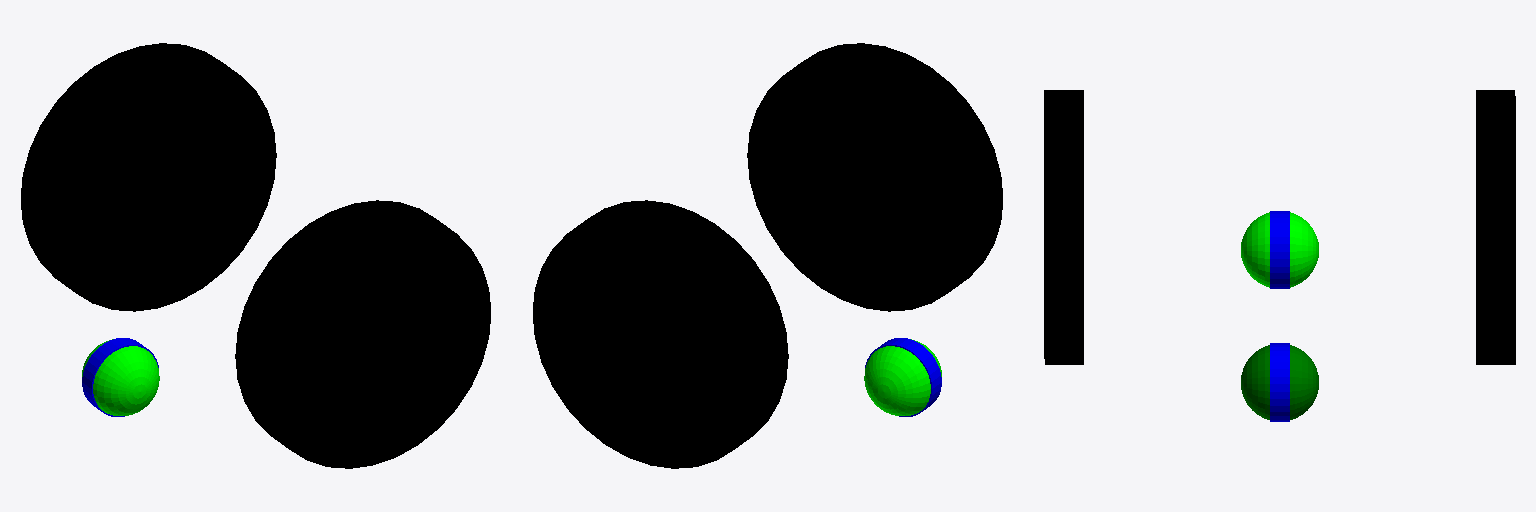
URDF robot description (box_bot):
<?xml version="1.0"?>
<robot name="box_bot">

    <material name="red">
        <color rgba="1.0 0.0 0.0 1"/>
    </material>

    <material name="green_light">
        <color rgba="0.0 1.0 0.0 1"/>
    </material>

    <material name="green_dark">
        <color rgba="0.0 0.5 0.0 1"/>
    </material>

    <material name="blue">
        <color rgba="0.0 0.0 1.0 1"/>
    </material>

    <material name="yellow">
        <color rgba="1.0 1.0 0.0 1"/>
    </material>

    <material name="black">
        <color rgba="0.0 0.0 0.0 1"/>
    </material>

    <material name="white">
        <color rgba="1.0 1.0 1.0 1"/>
    </material>

    <material name="box_bot_blue">
        <color rgba="0.088656 0.428691 0.491021 1"/>
    </material>

    <link name="base_footprint"/>

    <!-- Body -->
    <link name="base_link">
        <visual>
            <geometry>
                <mesh filename="package://my_box_bot_description/meshes/cute_cube.dae"
                    scale="0.1 0.1 0.1"/>
            </geometry>
            <!-- <material name="box_bot_blue"/> -->
        </visual>
        <collision>
            <geometry>
                <box size="0.1 0.1 0.1"/>
            </geometry>
        </collision>

        <inertial>
            <mass value="0.5"/>
            <origin rpy="0 0 0" xyz="0 0 0"/>
            <inertia ixx="0.0008333333333333335" ixy="0" ixz="0"
                    iyy="0.0008333333333333335" iyz="0"
                    izz="0.0008333333333333335"/>
        </inertial>
    </link>
    <joint name="base_link_joint" type="fixed">
        <origin xyz="0 0 0.0175" rpy="0 0 0"/>
        <parent link="base_footprint" />
        <child link="base_link" />
    </joint>

    <link name="left_wheel_link">
        <visual>
            <origin xyz="0 0.005 0" rpy="0 1.5707 1.5707"/>
            <geometry>
                <cylinder length="0.01" radius="0.035"/>
            </geometry>
            <material name="black"/>
        </visual>
        <collision>
            <origin rpy="0 1.5707 1.5707" xyz="0 0 0"/>
            <geometry>
                <cylinder length="0.001" radius="0.035"/>
            </geometry>
        </collision>
        <inertial>
            <origin rpy="0 1.5707 1.5707" xyz="0 0 0"/>
            <mass value="0.05"/>
            <inertia ixx="1.531666666666667e-05" ixy="0" ixz="0"
                    iyy="1.531666666666667e-05" iyz="0"
                    izz="3.0625000000000006e-05"/>
        </inertial>
    </link>
    <joint name="left_wheel_joint" type="continuous">
        <origin xyz="0 0.05 -0.025" rpy="0 0 0" />
        <child link="left_wheel_link"/>
        <parent link="base_link"/>
        <axis rpy="0 0 0" xyz="0 1 0"/>
        <limit effort="10000" velocity="1000"/>
        <joint_properties damping="1.0" friction="1.0"/>
    </joint>
    <gazebo reference="left_wheel_link">
        <kp>1000000000000000000000000000.0</kp>
        <kd>1000000000000000000000000000.0</kd>
        <mu1>10.0</mu1>
        <mu2>10.0</mu2>
        <material>Gazebo/Green</material>
    </gazebo>

    <link name="right_wheel_link">
        <visual>
            <origin xyz="0 -0.005 0" rpy="0 1.5707 1.5707"/>
            <geometry>
                <cylinder length="0.01" radius="0.035"/>
            </geometry>
            <material name="black"/>
        </visual>

        <collision>
            <origin rpy="0 1.5707 1.5707" xyz="0 0 0"/>
            <geometry>
                <cylinder length="0.001" radius="0.035"/>
            </geometry>
        </collision>

        <inertial>
            <origin rpy="0 1.5707 1.5707" xyz="0 0 0"/>
            <mass value="0.05"/>
            <inertia ixx="1.531666666666667e-05" ixy="0" ixz="0"
                    iyy="1.531666666666667e-05" iyz="0"
                    izz="3.0625000000000006e-05"/>
        </inertial>
    </link>
    <joint name="right_wheel_joint" type="continuous">
        <origin xyz="0 -0.05 -0.025" rpy="0 0 0" />
        <child link="right_wheel_link"/>
        <parent link="base_link"/>
        <axis rpy="0 0 0" xyz="0 1 0"/>
        <limit effort="10000" velocity="1000"/>
        <joint_properties damping="1.0" friction="1.0"/>
    </joint>
    <gazebo reference="right_wheel_link">
        <kp>1000000000000000000000000000.0</kp>
        <kd>1000000000000000000000000000.0</kd>
        <mu1>10.0</mu1>
        <mu2>10.0</mu2>
        <material>Gazebo/Orange</material>
    </gazebo>

    <link name="front_yaw_link">
        <visual>
            <origin xyz="0 0 0" rpy="0 1.5707 1.5707" />
            <geometry>
                <cylinder length="0.005" radius="0.010"/>
            </geometry>
            <material name="blue"/>
        </visual>
        <collision>
            <origin rpy="0 1.5707 1.5707" xyz="0 0 0"/>
            <geometry>
                <cylinder length="0.001" radius="0.0045"/>
            </geometry>
        </collision>
        <inertial>
            <origin rpy="0 1.5707 1.5707" xyz="0 0 0"/>
            <mass value="0.001"/>
            <inertia ixx="5.145833333333334e-09" ixy="0" ixz="0"
                    iyy="5.145833333333334e-09" iyz="0"
                    izz="1.0125000000000003e-08"/>
        </inertial>
    </link>
    <joint name="front_yaw_joint" type="continuous">
        <origin rpy="0 0 0" xyz="0.04 0 -0.05" />
        <parent link="base_link" />
        <child link="front_yaw_link" />
        <axis xyz="0 0 1" />
        <limit effort="1000.0" velocity="100.0" />
        <dynamics damping="0.0" friction="0.1"/>
    </joint>
    <gazebo reference="front_yaw_link">
        <material>Gazebo/Blue</material>
    </gazebo>

    <link name="front_roll_link">
        <visual>
            <origin rpy="0 1.5707 1.5707" xyz="0 0 0"/>
            <geometry>
                <cylinder length="0.005" radius="0.010"/>
            </geometry>
            <material name="red"/>
        </visual>
        <collision>
            <origin rpy="0 1.5707 1.5707" xyz="0 0 0"/>
            <geometry>
                <cylinder length="0.001" radius="0.0045"/>
            </geometry>
        </collision>

        <inertial>
            <origin rpy="0 1.5707 1.5707" xyz="0 0 0"/>
            <mass value="0.001"/>
            <inertia ixx="5.145833333333334e-09" ixy="0" ixz="0" iyy="5.145833333333334e-09" iyz="0" izz="1.0125000000000003e-08"/>
        </inertial>
    </link>
    <joint name="front_roll_joint" type="continuous">
        <origin rpy="0 0 0" xyz="0 0 0" />
        <parent link="front_yaw_link" />
        <child link="front_roll_link" />
        <axis xyz="1 0 0" />
        <limit effort="1000.0" velocity="100.0" />
        <dynamics damping="0.0" friction="0.1"/>
    </joint>
    <gazebo reference="front_roll_link">
        <material>Gazebo/Red</material>
    </gazebo>

    <link name="front_pitch_link">
        <visual>
            <origin rpy="0 1.5707 1.5707" xyz="0 0 0"/>
            <geometry>
                <sphere radius="0.010"/>
            </geometry>
            <material name="green_dark"/>
        </visual>
        <collision>
            <origin rpy="0 1.5707 1.5707" xyz="0 0 0"/>
            <geometry>
                <sphere radius="0.010"/>
            </geometry>
        </collision>
        <inertial>
            <origin rpy="0 1.5707 1.5707" xyz="0 0 0"/>
            <mass value="0.001"/>
            <inertia ixx="4e-08" ixy="0" ixz="0" iyy="4e-08" iyz="0" izz="4e-08"/>
        </inertial>
    </link>
    <gazebo reference="front_pitch_link">
        <kp>1000000000000000000000000000.0</kp>
        <kd>1000000000000000000000000000.0</kd>
        <mu1>0.5</mu1>
        <mu2>0.5</mu2>
        <material>Gazebo/Purple</material>
    </gazebo>
    <joint name="front_pitch_joint" type="continuous">
        <origin rpy="0 0 0" xyz="0 0 0" />
        <parent link="front_roll_link" />
        <child link="front_pitch_link" />
        <axis xyz="0 1 0" />
        <limit effort="1000.0" velocity="100.0" />
        <dynamics damping="0.0" friction="0.1"/>
    </joint>


    <link name="back_yaw_link">
        <visual>
            <origin rpy="0 1.5707 1.5707" xyz="0 0 0"/>
            <geometry>
                <cylinder length="0.005" radius="0.010"/>
            </geometry>
            <material name="blue"/>
        </visual>
        <collision>
            <origin rpy="0 1.5707 1.5707" xyz="0 0 0"/>
            <geometry>
                <cylinder length="0.001" radius="0.0045"/>
            </geometry>
        </collision>
        <inertial>
            <origin rpy="0 1.5707 1.5707" xyz="0 0 0"/>
            <mass value="0.001"/>
            <inertia ixx="5.145833333333334e-09" ixy="0" ixz="0" iyy="5.145833333333334e-09" iyz="0" izz="1.0125000000000003e-08"/>
        </inertial>
    </link>
    <joint name="back_yaw_joint" type="continuous">
        <origin rpy="0 0 0" xyz="-0.04 0 -0.05" />
        <parent link="base_link" />
        <child link="back_yaw_link" />
        <axis xyz="0 0 1" />
        <limit effort="1000.0" velocity="100.0" />
        <dynamics damping="0.0" friction="0.1"/>
    </joint>
    <gazebo reference="back_yaw_link">
        <material>Gazebo/Blue</material>
    </gazebo>

    <link name="back_roll_link">
        <visual>
            <origin rpy="0 1.5707 1.5707" xyz="0 0 0"/>
            <geometry>
                <cylinder length="0.005" radius="0.010"/>
            </geometry>
            <material name="red"/>
        </visual>
        <collision>
            <origin rpy="0 1.5707 1.5707" xyz="0 0 0"/>
            <geometry>
                <cylinder length="0.001" radius="0.0045"/>
            </geometry>
        </collision>
        <inertial>
            <origin rpy="0 1.5707 1.5707" xyz="0 0 0"/>
            <mass value="0.001"/>
            <inertia ixx="5.145833333333334e-09" ixy="0" ixz="0"
                    iyy="5.145833333333334e-09" iyz="0"
                    izz="1.0125000000000003e-08"/>
        </inertial>
    </link>
    <joint name="back_roll_joint" type="continuous">
        <origin rpy="0 0 0" xyz="0 0 0" />
        <parent link="back_yaw_link" />
        <child link="back_roll_link" />
        <axis xyz="1 0 0" />
        <limit effort="1000.0" velocity="100.0" />
        <dynamics damping="0.0" friction="0.1"/>
    </joint>
    <gazebo reference="back_roll_link">
        <material>Gazebo/Red</material>
    </gazebo>

    <link name="back_pitch_link">
        <visual>
            <origin rpy="0 1.5707 1.5707" xyz="0 0 0"/>
            <geometry>
                <sphere radius="0.010"/>
            </geometry>
            <material name="green_light"/>
        </visual>
        <collision>
            <origin rpy="0 1.5707 1.5707" xyz="0 0 0"/>
            <geometry>
                <sphere radius="0.010"/>
            </geometry>
        </collision>
        <inertial>
            <origin rpy="0 1.5707 1.5707" xyz="0 0 0"/>
            <mass value="0.001"/>
            <inertia ixx="4e-08" ixy="0" ixz="0" iyy="4e-08" iyz="0" izz="4e-08"/>
        </inertial>
    </link>
    <gazebo reference="back_pitch_link">
        <kp>1000000000000000000000000000.0</kp>
        <kd>1000000000000000000000000000.0</kd>
        <mu1>0.5</mu1>
        <mu2>0.5</mu2>
        <material>Gazebo/Yellow</material>
    </gazebo>
    <joint name="back_pitch_joint" type="continuous">
        <origin rpy="0 0 0" xyz="0 0 0" />
        <parent link="back_roll_link" />
        <child link="back_pitch_link" />
        <axis xyz="0 1 0" />
        <limit effort="1000.0" velocity="100.0" />
        <dynamics damping="0.0" friction="0.1"/>
    </joint>

    <!-- PLUGINS -->
    <!-- JOINT PUBLISHER -->
    <gazebo>
        <plugin name="box_bot_joint_state" filename="libgazebo_ros_joint_state_publisher.so">
            <ros>
                <remapping>~/out:=joint_states</remapping>
            </ros>
            <update_rate>30</update_rate>

            <joint_name>left_wheel_joint</joint_name>
            <joint_name>right_wheel_joint</joint_name>

            <joint_name>front_yaw_joint</joint_name>
            <joint_name>back_yaw_joint</joint_name>
            <joint_name>front_roll_joint</joint_name>
            <joint_name>back_roll_joint</joint_name>
            <joint_name>front_pitch_joint</joint_name>
            <joint_name>back_pitch_joint</joint_name>
        </plugin>
    </gazebo>

    <!-- Differential drive -->
    <gazebo>
        <plugin filename="libgazebo_ros_diff_drive.so" name="differential_drive_controller">

            <!-- wheels -->
            <left_joint>left_wheel_joint</left_joint>
            <right_joint>right_wheel_joint</right_joint>

            <!-- kinematics -->
            <wheel_separation>0.1</wheel_separation>
            <wheel_diameter>0.07</wheel_diameter>

            <!-- limits -->
            <max_wheel_torque>1.0</max_wheel_torque>
            <max_wheel_acceleration>2.0</max_wheel_acceleration>

            <!-- output -->
            <publish_odom>true</publish_odom>
            <publish_odom_tf>true</publish_odom_tf>

            <odometry_frame>odom</odometry_frame>
            <robot_base_frame>base_footprint</robot_base_frame>

        </plugin>
    </gazebo>
</robot>

--- Render facts (derived) ---
Views: 3 orthographic renders of the robot side by side, from view 1: azimuth 30°, elevation 25°; view 2: azimuth 150°, elevation 25°; view 3: azimuth 270°, elevation 25°.
Robot: box_bot — 10 links, 9 joints (8 continuous, 1 fixed); root link base_footprint; default pose: all joints at 0.
Visible links, largest first — view 1: left_wheel_link, right_wheel_link, back_pitch_link, back_yaw_link; view 2: left_wheel_link, right_wheel_link, back_pitch_link, back_yaw_link; view 3: left_wheel_link, right_wheel_link, front_pitch_link, back_pitch_link, front_yaw_link, back_yaw_link.
Boxes of the visible links, x1,y1,x2,y2 form: left_wheel_link: (21, 43, 276, 311); right_wheel_link: (235, 200, 490, 468); back_pitch_link: (82, 339, 159, 415); back_yaw_link: (82, 338, 158, 416); left_wheel_link: (533, 200, 788, 468); right_wheel_link: (747, 43, 1002, 311); back_pitch_link: (864, 339, 941, 415); back_yaw_link: (865, 338, 941, 416); left_wheel_link: (1476, 90, 1515, 364); right_wheel_link: (1044, 90, 1083, 364); front_pitch_link: (1241, 345, 1318, 419); back_pitch_link: (1241, 212, 1318, 287); front_yaw_link: (1270, 343, 1289, 421); back_yaw_link: (1270, 211, 1289, 288).
Size in the robot's own frame: 0.1 by 0.12 by 0.07 metres.
0 mesh visuals loaded from 1 distinct referenced files (none loaded); not drawn: 1 (file found but could not be loaded).
